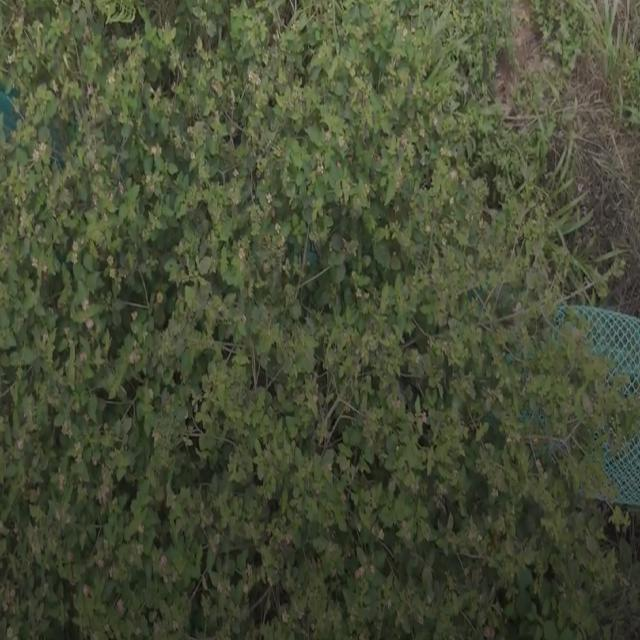notMangoTree: (1, 0, 639, 640)
